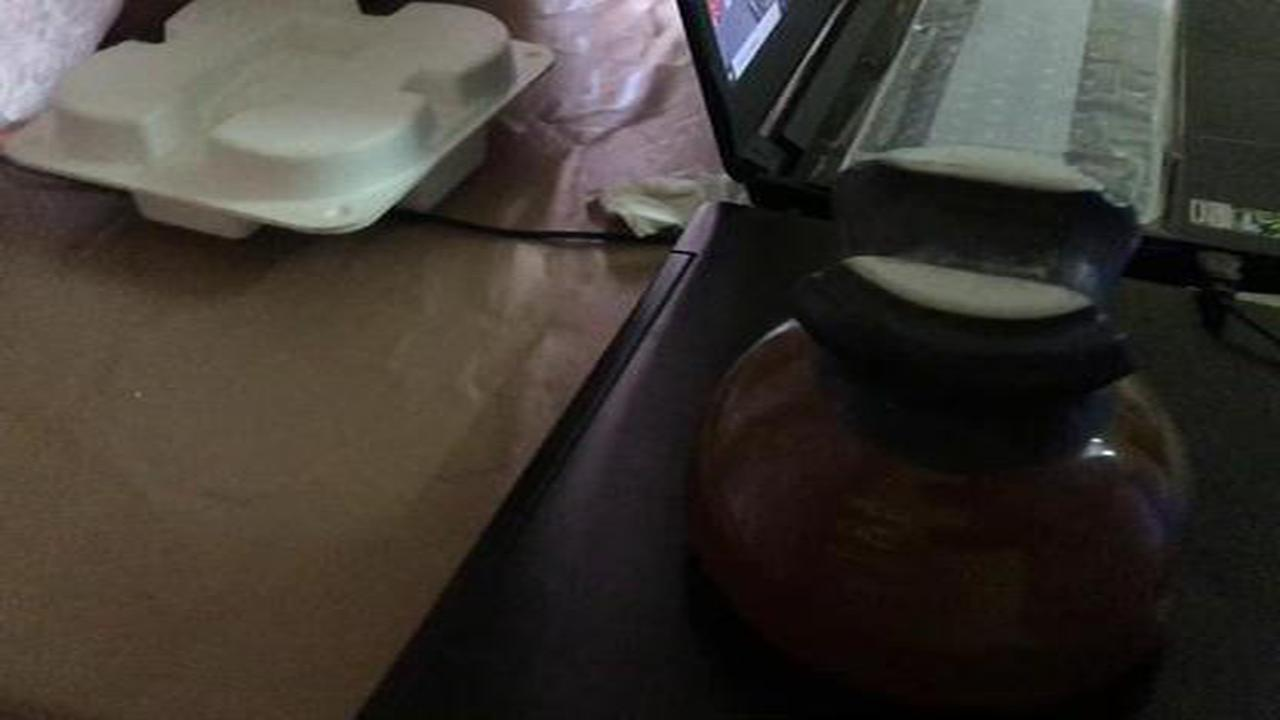insulator_pin: (662, 132, 1222, 689)
